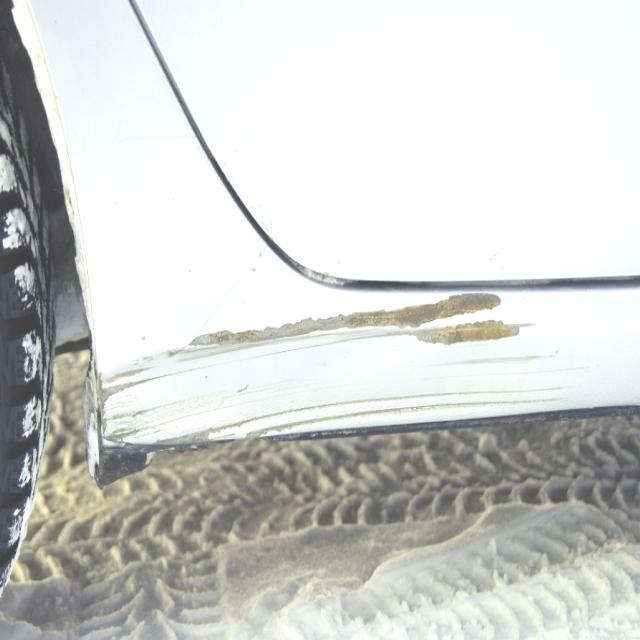Rayure: (92, 290, 617, 465)
